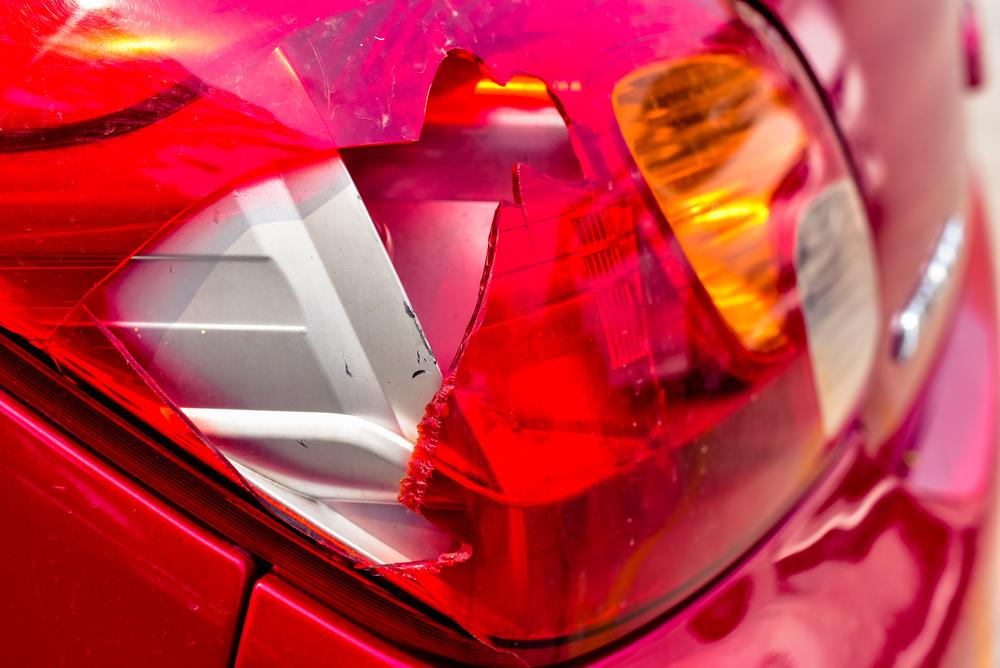lamp broken: (0, 0, 884, 642)
